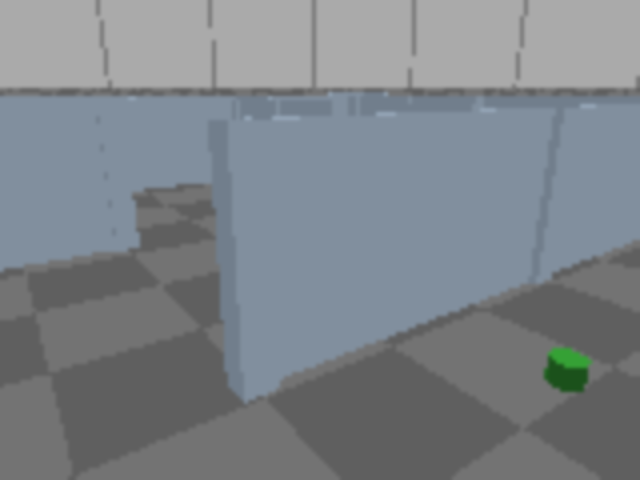puck: (545, 351, 590, 390)
